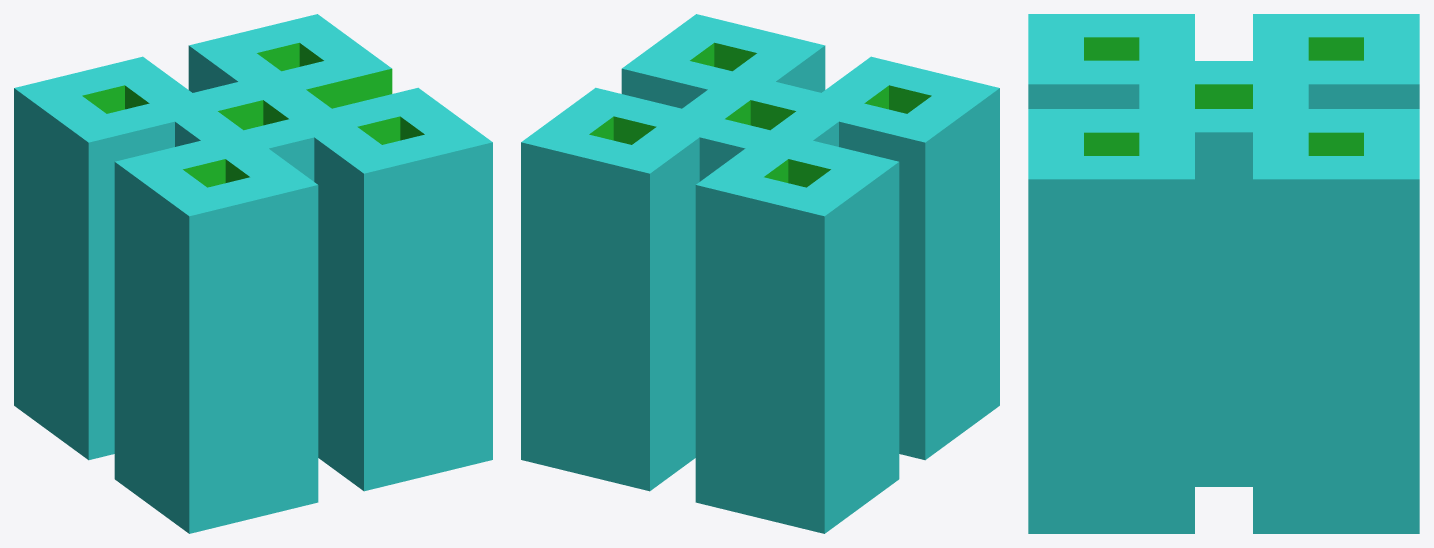
The model's file is куб8.fbx.
3 views of the same model, side by side, from view 1: azimuth 30°, elevation 25°; view 2: azimuth 150°, elevation 25°; view 3: azimuth 270°, elevation 25° (orthographic). The views are drawn at different scales.
Visible parts, largest first — view 1: Cube; view 2: Cube; view 3: Cube.
Boxes of the visible parts, x1,y1,x2,y2 form: Cube: (14,14,492,533); Cube: (521,14,999,533); Cube: (1028,14,1419,533).
Size of the model in its own units: 200 by 200 by 200.
